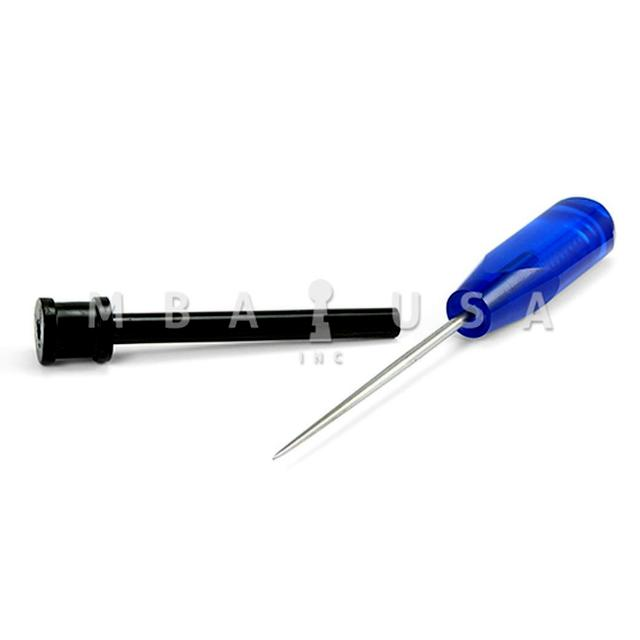ice pick: (272, 195, 618, 462)
